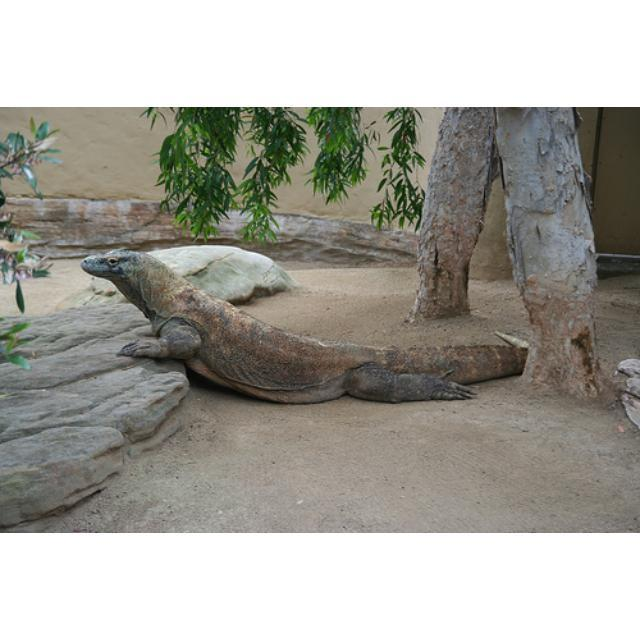KomodoDragon: (77, 245, 527, 401)
